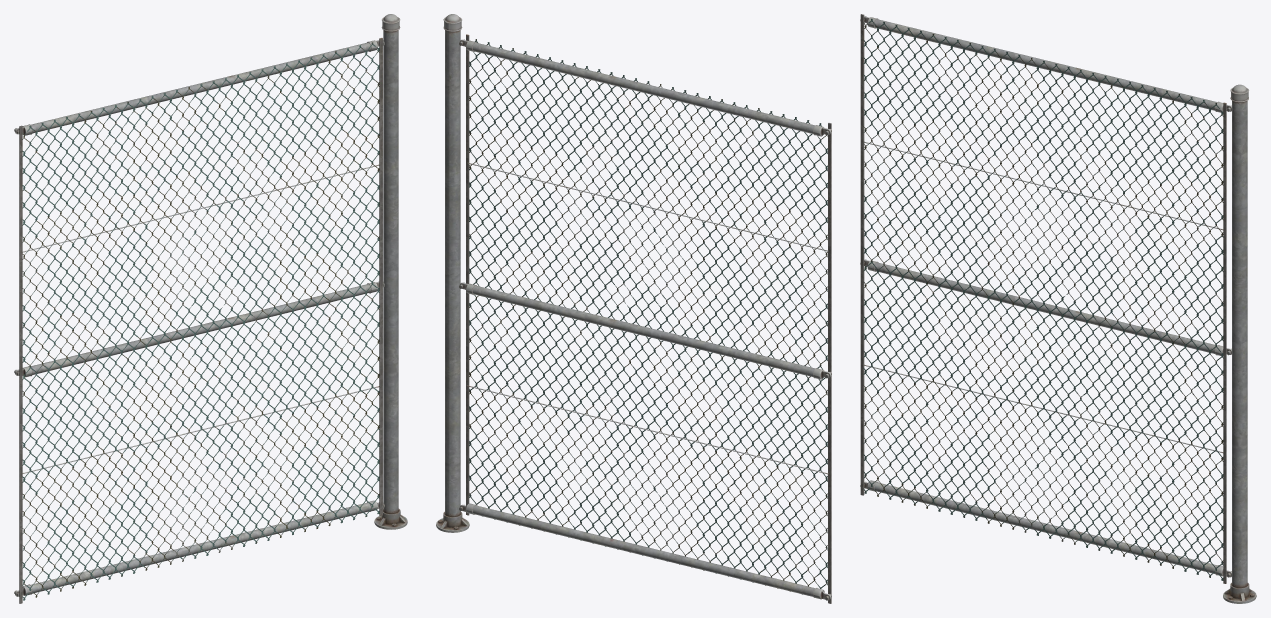
File: kit_fence.glb
The picture shows the model from 3 angles, left to right: view 1: azimuth 30°, elevation 25°; view 2: azimuth 150°, elevation 25°; view 3: azimuth 330°, elevation 25°; orthographic projection.
Parts seen in each view (by area): view 1: panel, post; view 2: panel, post; view 3: panel, post.
Boxes of the visible parts, x1,y1,x2,y2 form: panel: [14, 38, 384, 603]; post: [374, 14, 407, 529]; panel: [459, 34, 831, 603]; post: [436, 14, 469, 532]; panel: [860, 14, 1231, 583]; post: [1223, 84, 1256, 603].
Bounding box in the file's own units: 2.03 × 2.52 × 0.1494.
Materials: 2 (2 with a texture image).
